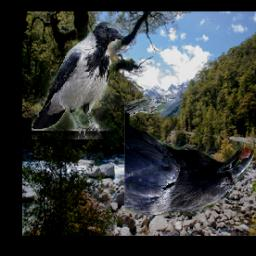Crow: (124, 95, 254, 216), (32, 22, 122, 140)
